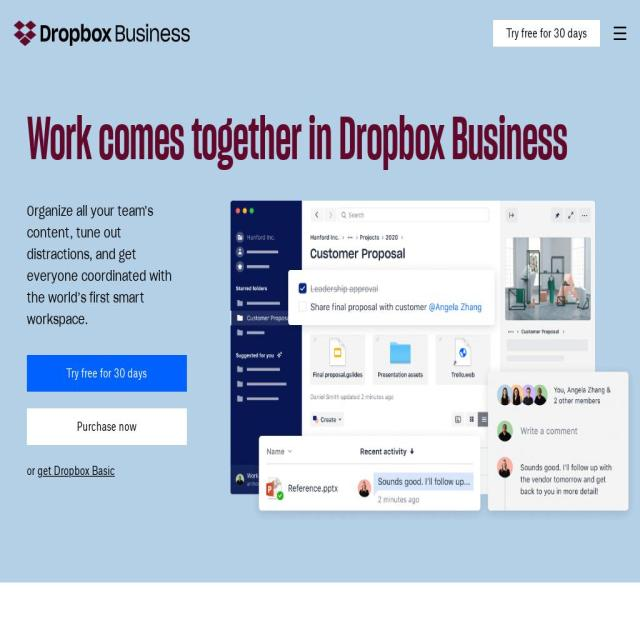button: (26, 355, 187, 392), (26, 408, 187, 445), (12, 17, 192, 50), (493, 20, 600, 47)
heading: (26, 108, 568, 175)
image: (213, 200, 640, 520), (37, 17, 192, 50), (12, 17, 38, 50)
link: (37, 463, 115, 478)
text: (26, 200, 187, 330), (27, 463, 38, 478)
